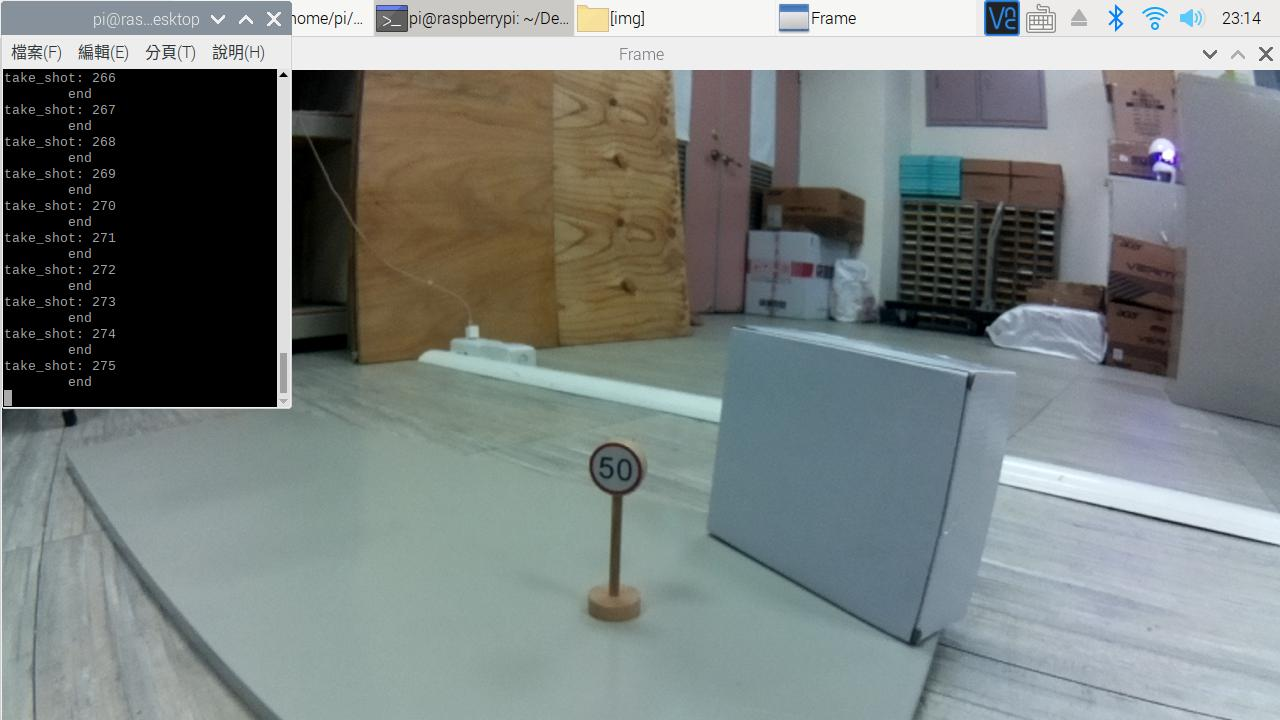Speed50: (574, 426, 670, 525)
